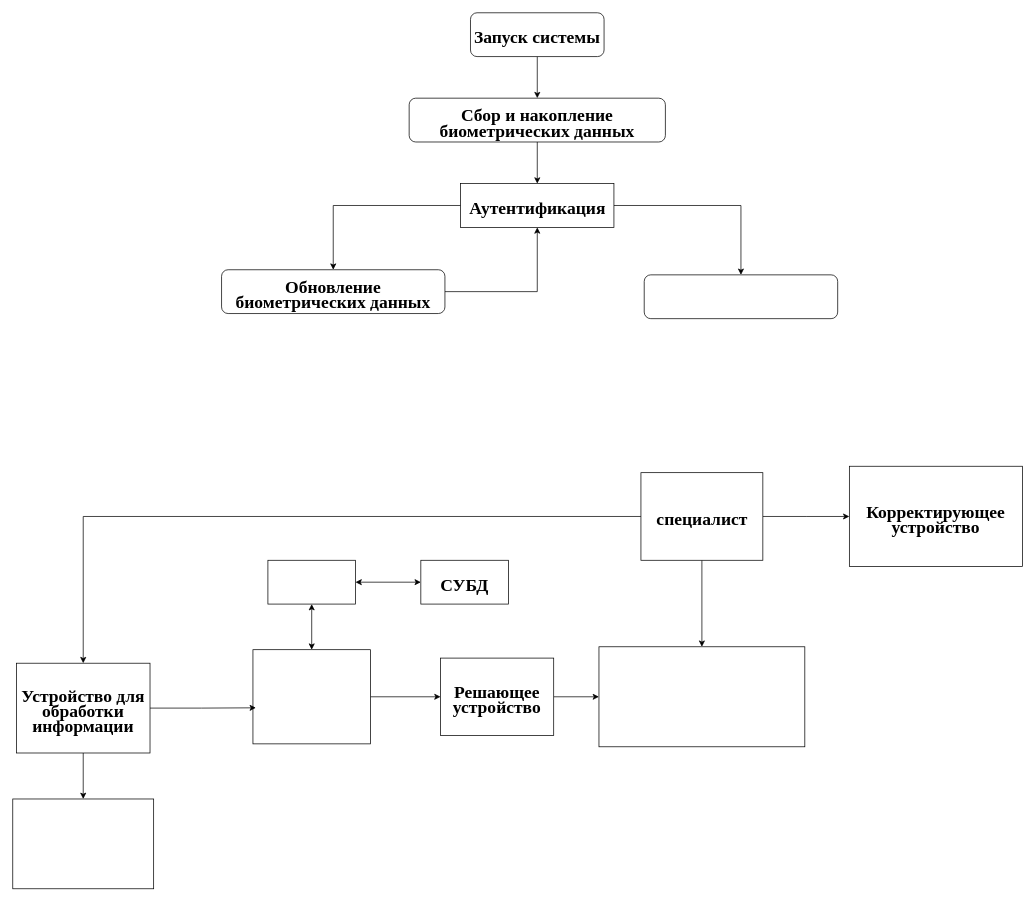
Some shapes in this 1035 by 902 pixel diagram are drawn without their labels. The shapes that lost their labels are listed below. From the top down, each one's centre as x and y in pixels, then its label:
At pixel 740 296: "Отказ в обслуживании".
At pixel 311 582: "БД".
At pixel 311 696: "Устройство сравнения".
At pixel 701 696: "Исполнительное устройство".
At pixel 83 843: "Считывающее устройство".
